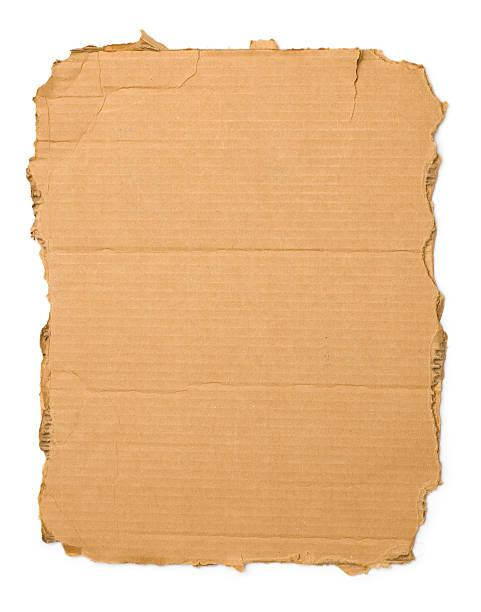plastic: (15, 34, 454, 574)
